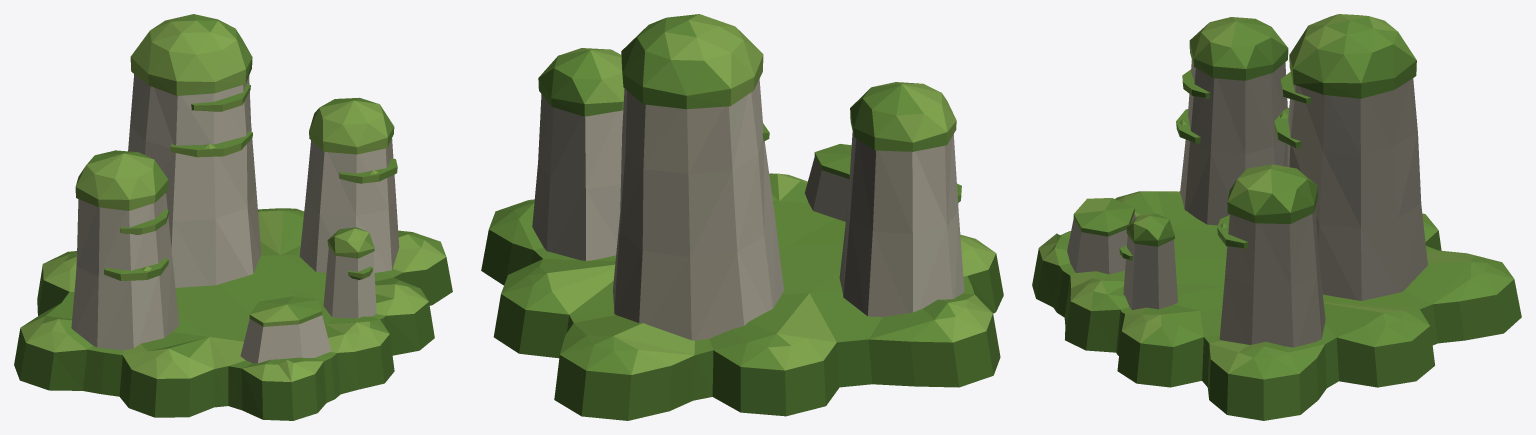
File: karst_cluster.glb
The picture shows the model from 3 angles, left to right: view 1: azimuth 30°, elevation 25°; view 2: azimuth 150°, elevation 25°; view 3: azimuth 270°, elevation 25°; orthographic projection. The views are drawn at different scales.
Parts seen in each view (by area): view 1: karst_cluster; view 2: karst_cluster; view 3: karst_cluster.
Part boxes in pixels (bbox=[...]): karst_cluster: bbox=[14, 14, 452, 420]; karst_cluster: bbox=[481, 14, 1003, 420]; karst_cluster: bbox=[1032, 14, 1521, 420].
Size of the model in its own units: 1.85 by 1.15 by 1.74.
